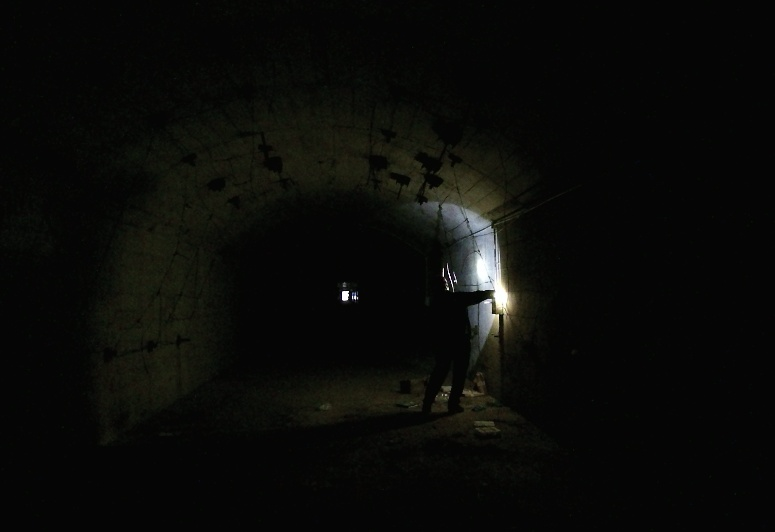person: (422, 277, 499, 417)
